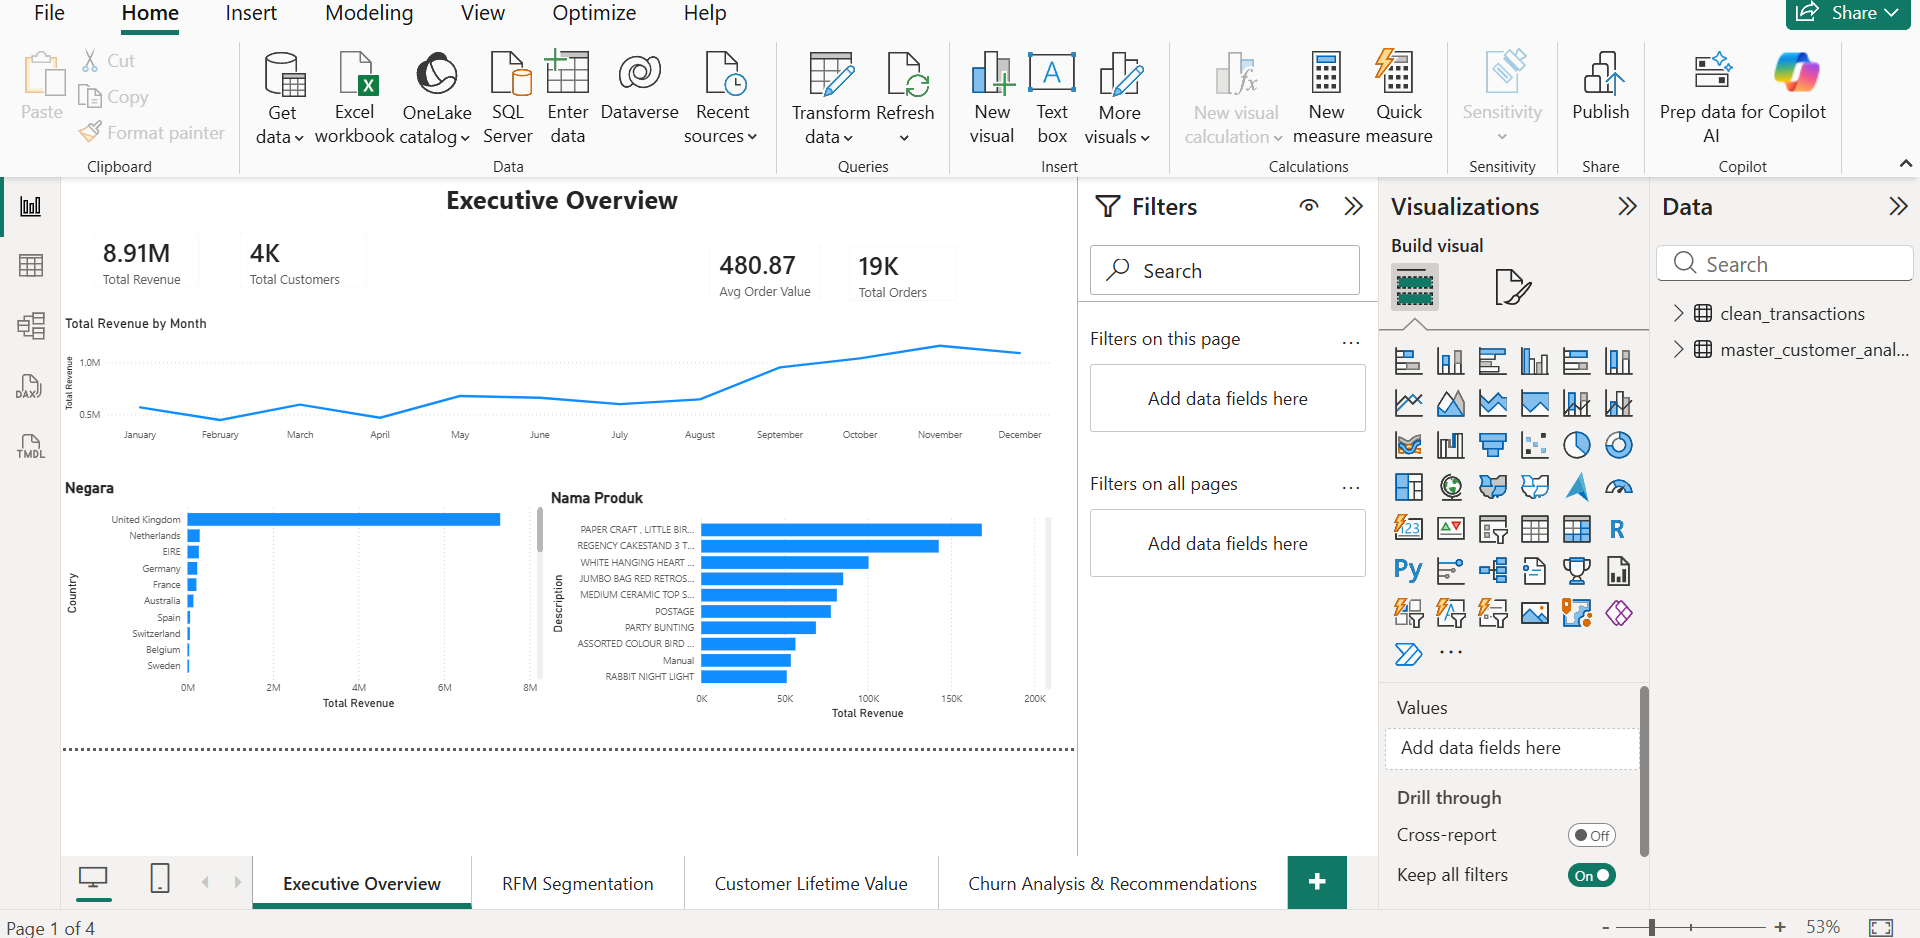

The dashboard page shown, as its layout file describes it:
{"tool":"powerbi","page":{"name":"Executive Overview","canvas":[1280,720],"ordinal":0},"visuals":[{"type":"textbox","box":[480,0,319.4,68],"z":0},{"type":"cardVisual","fields":{"Data":["master_customer_analytics.Avg Order Value"]},"box":[799.4,68,175.7,103.9],"z":1000},{"type":"cardVisual","fields":{"Data":["master_customer_analytics.Total Orders"]},"box":[975.1,69.9,170.1,103.9],"z":2000},{"type":"cardVisual","fields":{"Data":["master_customer_analytics.Total Revenue"]},"box":[22.7,52.9,168.2,103.9],"z":3000},{"type":"cardVisual","fields":{"Data":["master_customer_analytics.Total Customers"]},"box":[207.9,52.9,194.6,103.9],"z":4000},{"type":"lineChart","fields":{"Category":["clean_transactions.InvoiceDate.Variation.Date Hierarchy.Month"],"Y":["master_customer_analytics.Total Revenue"]},"box":[0,173.9,1252.9,168.2],"z":5000},{"type":"clusteredBarChart","title":"Negara","fields":{"Category":["clean_transactions.Country"],"Y":["master_customer_analytics.Total Revenue"]},"box":[0,379.8,612.3,294.8],"z":6000},{"type":"clusteredBarChart","title":"Nama Produk","fields":{"Category":["clean_transactions.Description"],"Y":["master_customer_analytics.Total Revenue"]},"box":[612.3,393.1,640.6,294.8],"z":7000}]}

Visuals, with their boxes on the page's 1280x720 design canvas (x1, y1, x2, y2). These are canvas units, not pixel positions in the 1920x938 screenshot, which may show the page scaled, cropped or inside an application window:
textbox: 480,0,799,68
cardVisual - master_customer_analytics.Avg Order Value: 799,68,975,172
cardVisual - master_customer_analytics.Total Orders: 975,70,1145,174
cardVisual - master_customer_analytics.Total Revenue: 23,53,191,157
cardVisual - master_customer_analytics.Total Customers: 208,53,402,157
lineChart - clean_transactions.InvoiceDate.Variation.Date Hierarchy.Month x master_customer_analytics.Total Revenue: 0,174,1253,342
"Negara" clusteredBarChart: 0,380,612,675
"Nama Produk" clusteredBarChart: 612,393,1253,688
